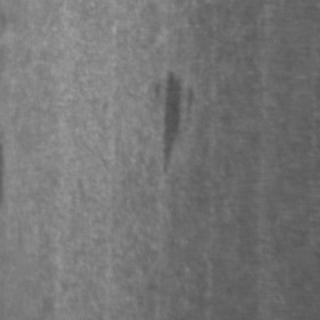inclusion: (146, 63, 198, 179)
